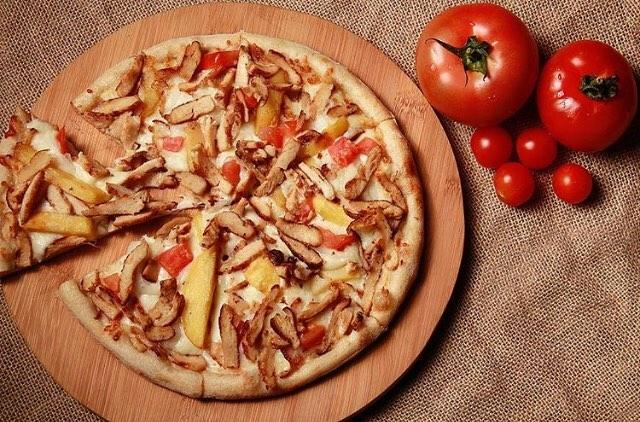Chicken: (16, 148, 48, 225), (274, 219, 320, 267), (246, 284, 279, 346), (81, 192, 146, 221), (266, 49, 304, 98), (347, 144, 380, 200), (119, 241, 147, 303), (220, 239, 266, 274), (164, 94, 215, 124), (114, 53, 146, 97), (364, 242, 383, 312), (219, 304, 239, 370), (158, 279, 182, 326), (90, 97, 147, 116), (216, 210, 256, 237), (260, 332, 278, 392), (178, 41, 201, 82), (174, 171, 208, 192)
Pizza: (59, 33, 426, 400), (0, 109, 172, 277)
Tomatoes: (158, 246, 192, 273), (202, 51, 239, 74), (269, 119, 297, 148), (330, 139, 359, 165), (320, 228, 354, 249), (300, 191, 314, 223), (301, 327, 322, 348), (223, 160, 240, 185)
